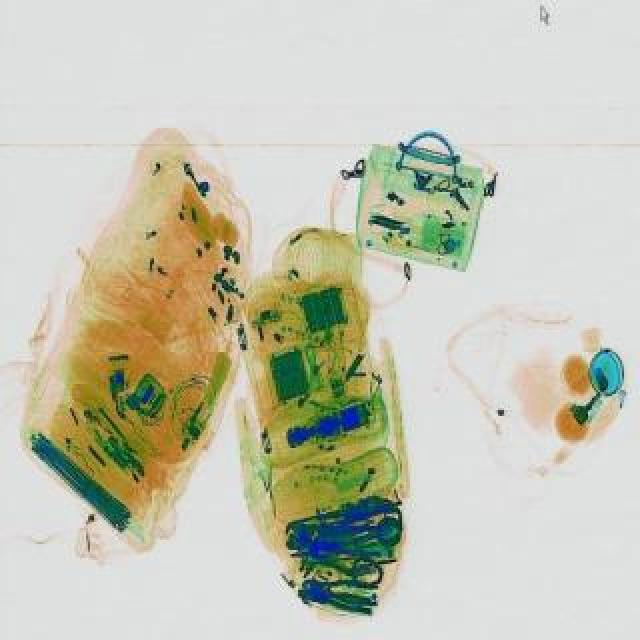wrench: (284, 516, 388, 556), (298, 566, 378, 614)
